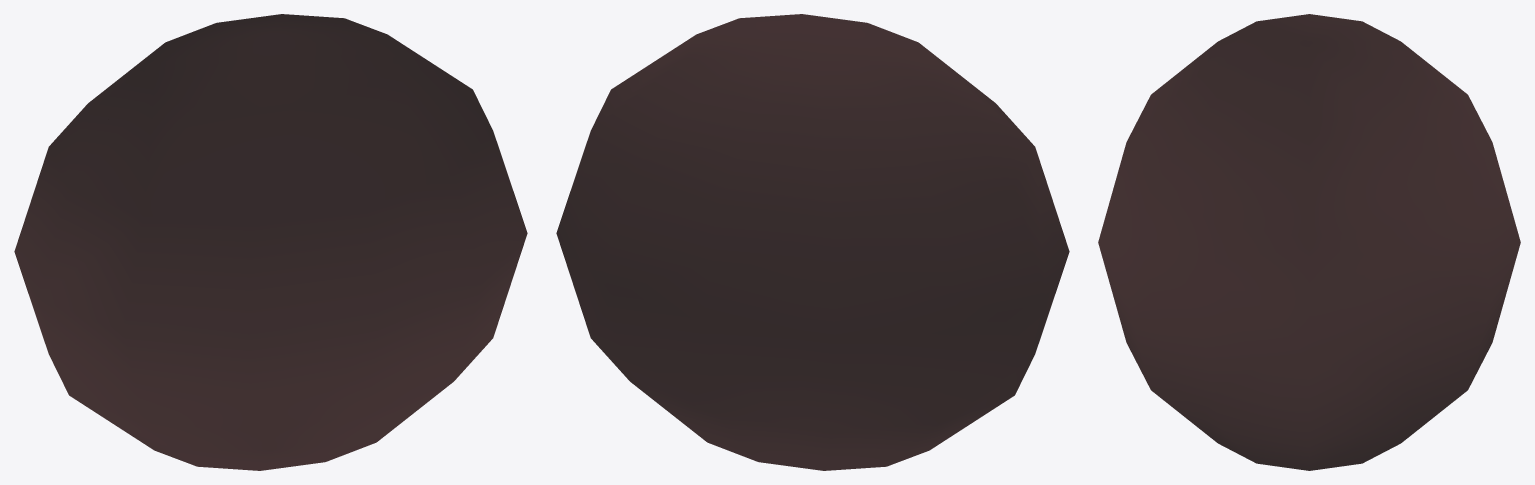
File: EatenDarkLowLeft.obj
3 views of the same model, side by side, from view 1: azimuth 30°, elevation 25°; view 2: azimuth 150°, elevation 25°; view 3: azimuth 270°, elevation 25° (orthographic). The views are drawn at different scales.
Visible parts, largest first — view 1: pSphere2; view 2: pSphere2; view 3: pSphere2.
Part boxes in pixels (box(x1,y1,x2,y2)): pSphere2: box(14, 14, 527, 470); pSphere2: box(556, 14, 1069, 470); pSphere2: box(1098, 14, 1520, 470).
Bounding box in the file's own units: 8.22 × 6.98 × 6.68.
